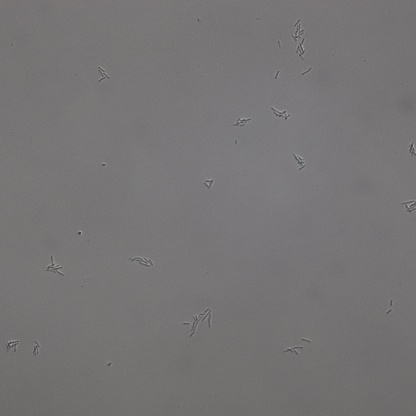R(colony): (182, 308, 212, 337), (46, 256, 64, 278), (291, 18, 305, 42), (295, 38, 308, 60), (128, 256, 153, 267), (95, 66, 111, 82), (233, 114, 251, 128), (271, 107, 290, 120), (293, 154, 306, 171), (402, 198, 416, 212), (5, 339, 18, 353), (284, 347, 304, 355), (32, 341, 40, 357), (203, 178, 214, 188)
